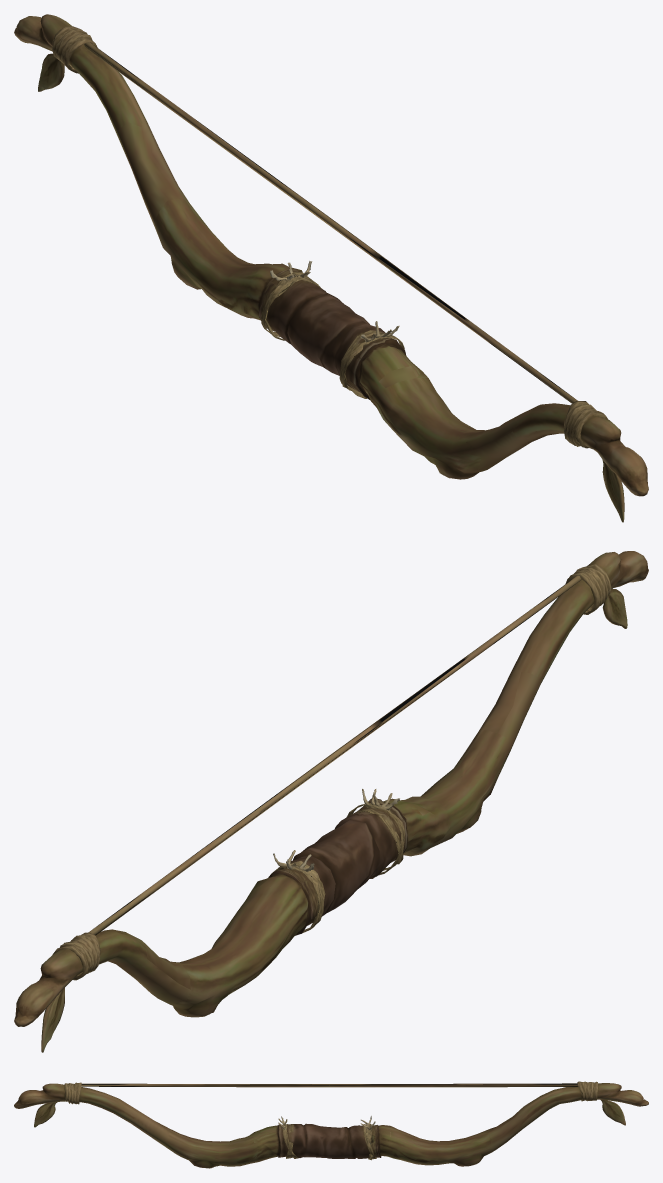
File: Weapon_ShortBow.fbx
3 renders of one model, top to bottom at view 1: azimuth 30°, elevation 25°; view 2: azimuth 150°, elevation 25°; view 3: azimuth 270°, elevation 25°, orthographic. The views are drawn at different scales.
Visible parts, largest first — view 1: Weapon_ShortBow.001; view 2: Weapon_ShortBow.001; view 3: Weapon_ShortBow.001.
Boxes of the visible parts, x1,y1,x2,y2 form: Weapon_ShortBow.001: (14,14,648,522); Weapon_ShortBow.001: (14,551,648,1052); Weapon_ShortBow.001: (14,1081,648,1168).
Size of the model in its own units: 0.0341 by 0.0911 by 0.62.
